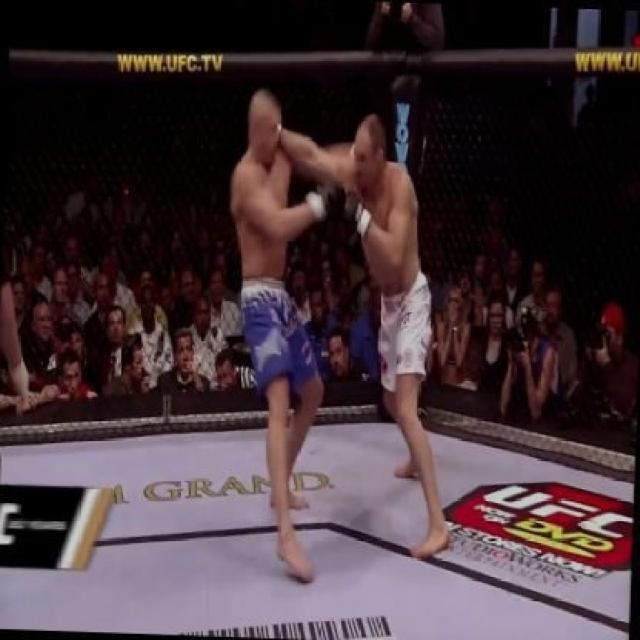fight: (189, 63, 474, 600)
